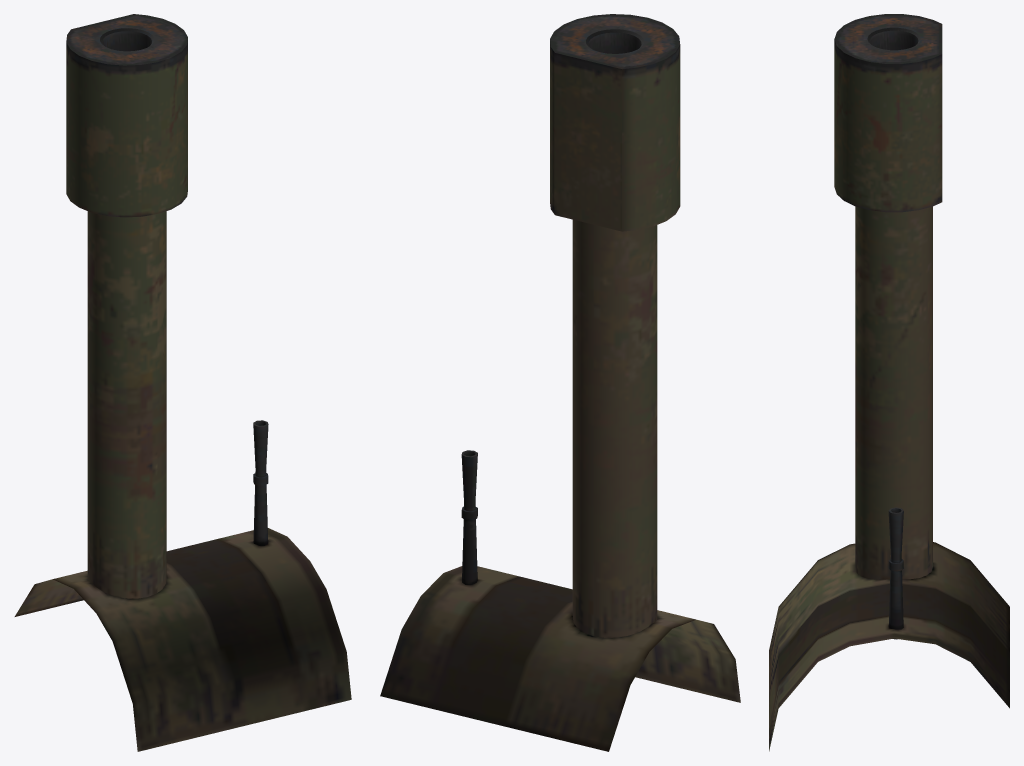
Rendered from Gun_01.glb.
3 renders of one model, left to right at view 1: azimuth 30°, elevation 25°; view 2: azimuth 150°, elevation 25°; view 3: azimuth 270°, elevation 25°, orthographic. The views are drawn at different scales.
Visible parts, largest first — view 1: set_0_group_0; view 2: set_0_group_0; view 3: set_0_group_0.
Part boxes in pixels (box(x1,y1,x2,y2)): set_0_group_0: box(14, 14, 351, 751); set_0_group_0: box(380, 14, 740, 751); set_0_group_0: box(769, 14, 1009, 751).
Bounding box in the file's own units: 0.4713 × 1.37 × 0.4706.
1 material, 1 textured.
